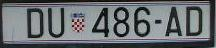-: (154, 19, 163, 24)
4: (91, 7, 111, 40)
6: (134, 7, 151, 38)
8: (112, 7, 130, 38)
A: (164, 6, 183, 37)
D: (26, 6, 45, 40), (185, 5, 203, 37)
U: (48, 7, 66, 39)
